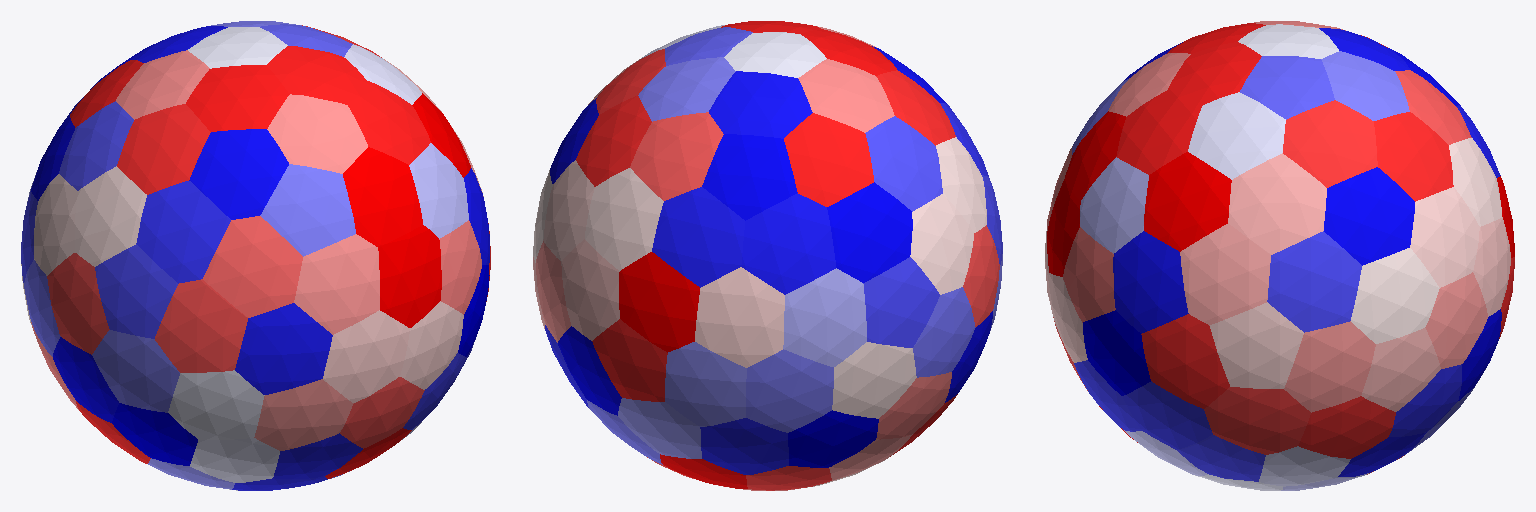
The picture shows the model from 3 angles: view 1: azimuth 30°, elevation 25°; view 2: azimuth 150°, elevation 25°; view 3: azimuth 270°, elevation 25°; orthographic projection.
Visible parts, largest first — view 1: 3D_Object; view 2: 3D_Object; view 3: 3D_Object.
Boxes of the visible parts, <box> form: 3D_Object: <box>21,21,490,490</box>; 3D_Object: <box>533,21,1002,490</box>; 3D_Object: <box>1045,21,1514,490</box>.
Bounding box in the file's own units: 2 × 2 × 2.
Materials: 1 (1 with a texture image).